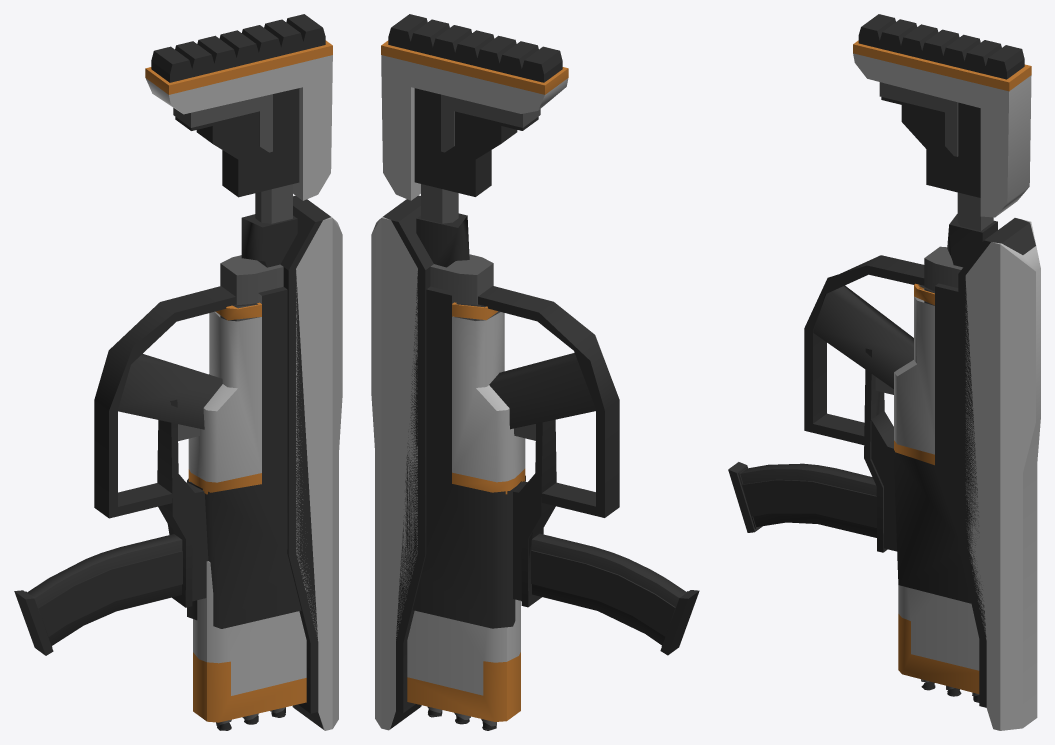
3 views of the same model, side by side, from view 1: azimuth 30°, elevation 25°; view 2: azimuth 150°, elevation 25°; view 3: azimuth 330°, elevation 25° (orthographic). The views are drawn at different scales.
Visible parts, largest first — view 1: WeaponMesh_qg-ar-3_AR_3, WeaponMesh_qg-ar-3_Magazine_AR_2; view 2: WeaponMesh_qg-ar-3_AR_3, WeaponMesh_qg-ar-3_Magazine_AR_2; view 3: WeaponMesh_qg-ar-3_AR_3, WeaponMesh_qg-ar-3_Magazine_AR_2.
Boxes of the visible parts, x1=… form: WeaponMesh_qg-ar-3_AR_3: x1=94, y1=14, x2=342, y2=730; WeaponMesh_qg-ar-3_Magazine_AR_2: x1=14, y1=534, x2=182, y2=655; WeaponMesh_qg-ar-3_AR_3: x1=371, y1=14, x2=619, y2=730; WeaponMesh_qg-ar-3_Magazine_AR_2: x1=531, y1=533, x2=699, y2=655; WeaponMesh_qg-ar-3_AR_3: x1=804, y1=14, x2=1040, y2=730; WeaponMesh_qg-ar-3_Magazine_AR_2: x1=728, y1=462, x2=876, y2=537.
Size of the model in its own units: 0.6013 by 1.25 by 0.1056.
